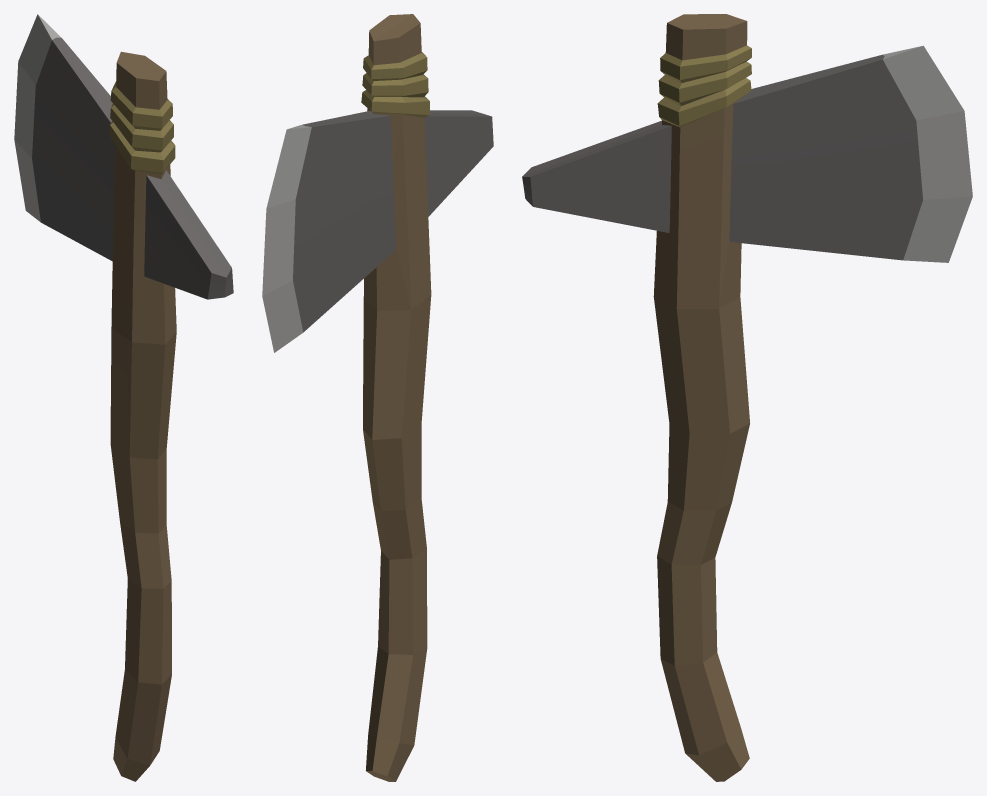
Rendered from Axe.fbx.
The picture shows the model from 3 angles, left to right: view 1: azimuth 30°, elevation 25°; view 2: azimuth 150°, elevation 25°; view 3: azimuth 270°, elevation 25°; orthographic projection. The views are drawn at different scales.
Parts seen in each view (by area): view 1: Primitive_Axe; view 2: Primitive_Axe; view 3: Primitive_Axe.
Part boxes in pixels (bbox=[...]): Primitive_Axe: bbox=[14, 14, 233, 781]; Primitive_Axe: bbox=[262, 14, 493, 781]; Primitive_Axe: bbox=[522, 14, 972, 781].
Bounding box in the file's own units: 0.1836 × 2.77 × 1.49.
